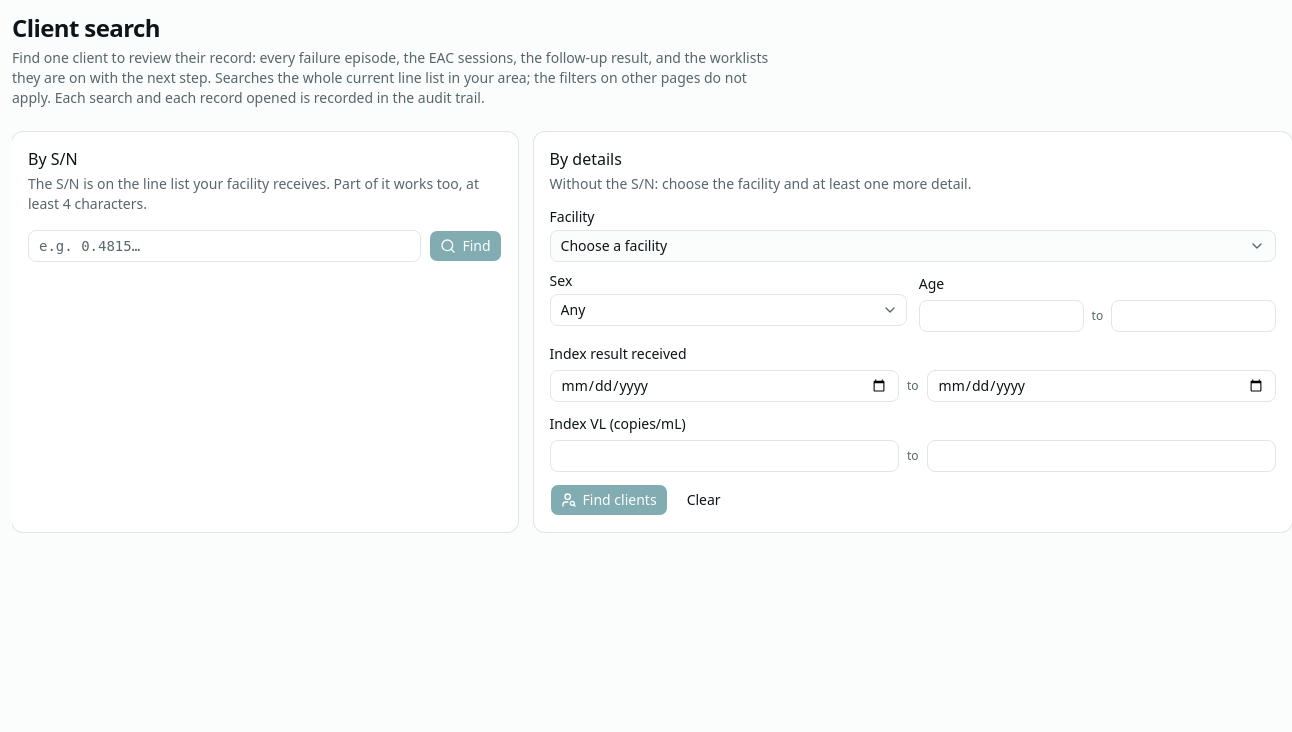
Client search › needs at least four characters of the S/N before searching
Type "0.1" into the field named "S/N" at (225, 246), box [28,230,422,262]
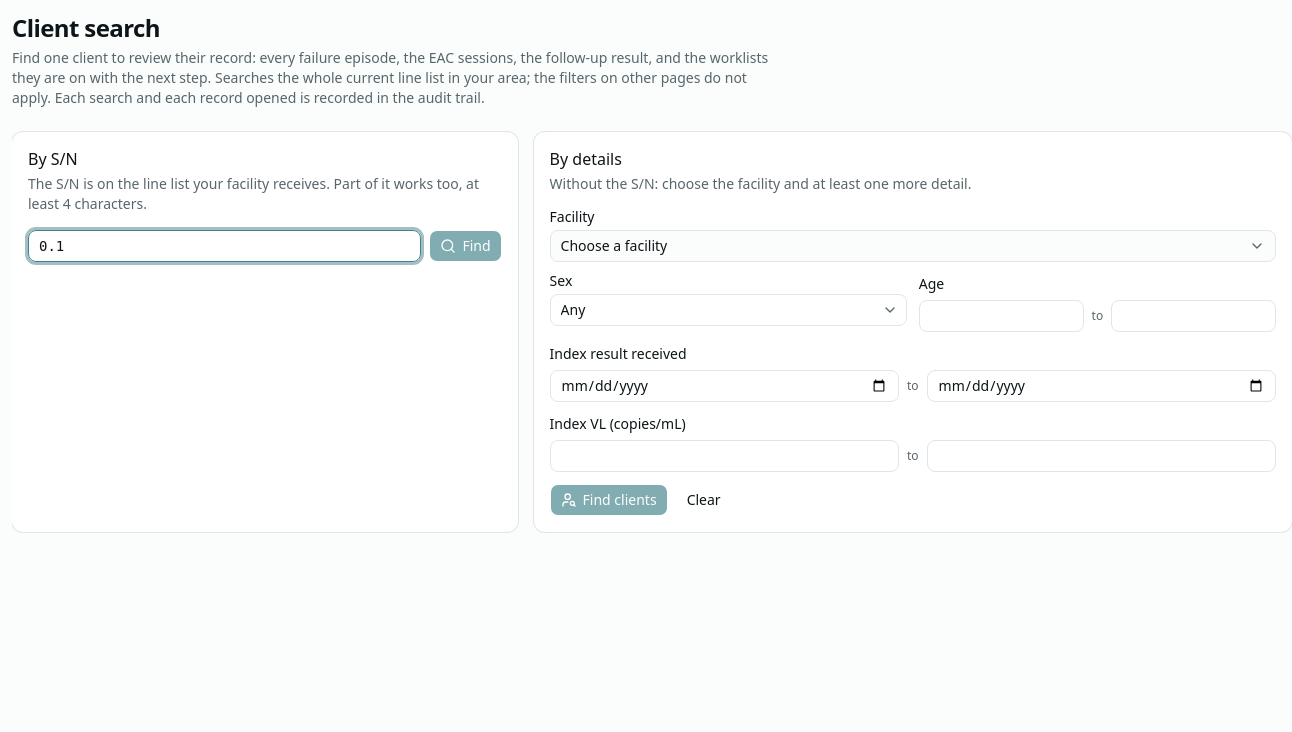
Expected: the button "Find" is disabled, [430,230,502,262]
Type "23" into the field named "S/N" at (225, 246), box [28,230,422,262]
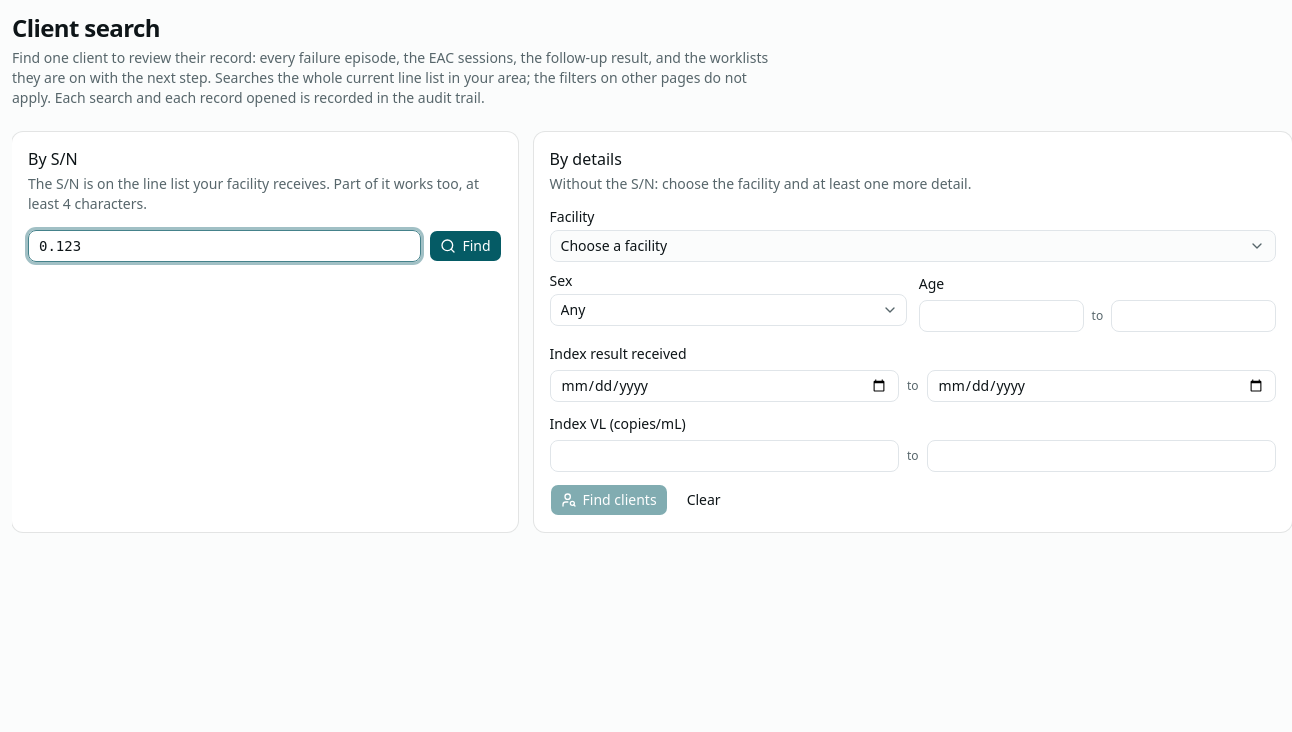
Now the button "Find" is enabled, box [430,230,502,262]
